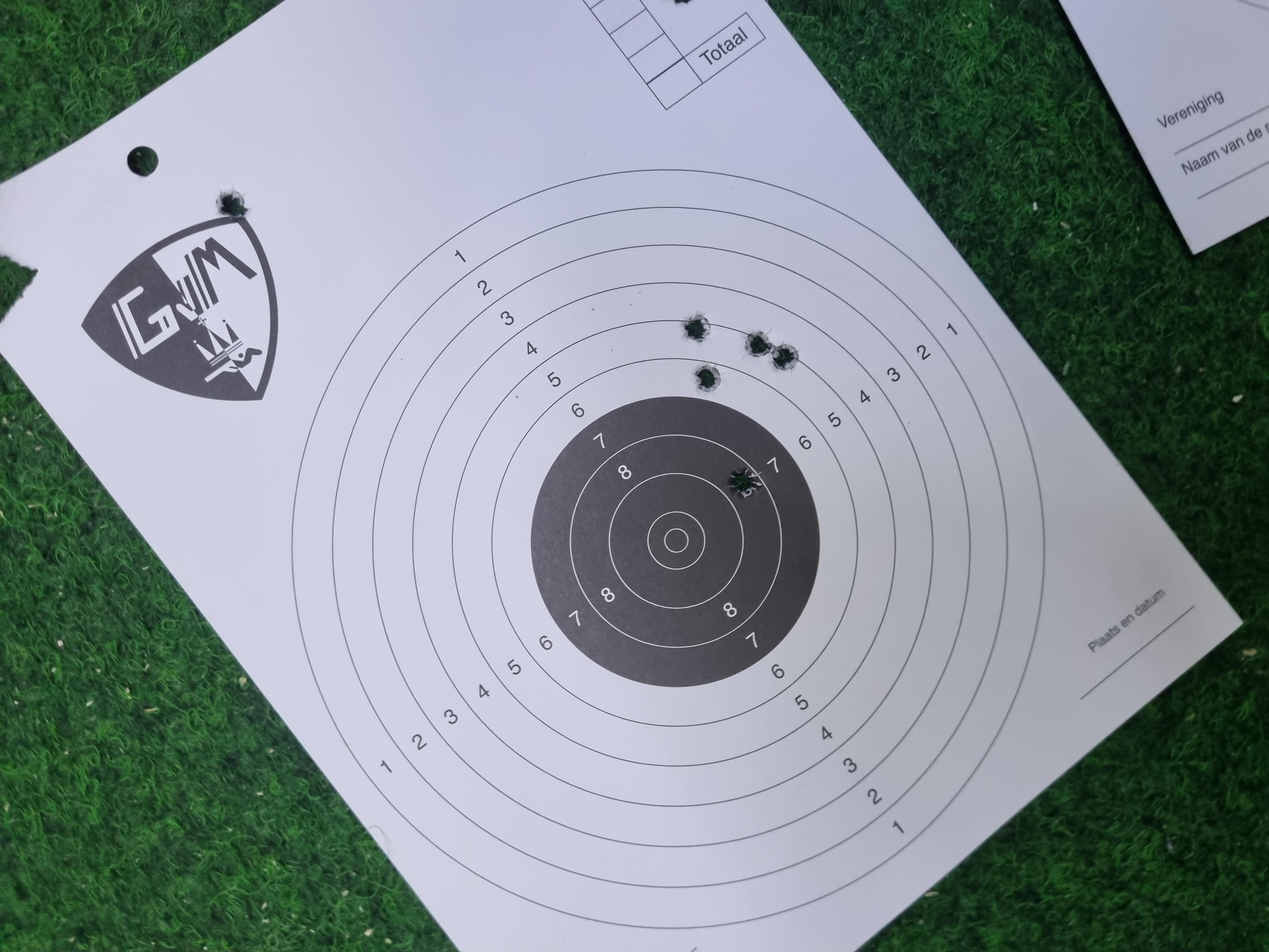hole: (601, 546, 648, 571), (787, 556, 833, 580), (976, 162, 1016, 189), (812, 511, 855, 536), (746, 518, 787, 543), (775, 577, 812, 601)
